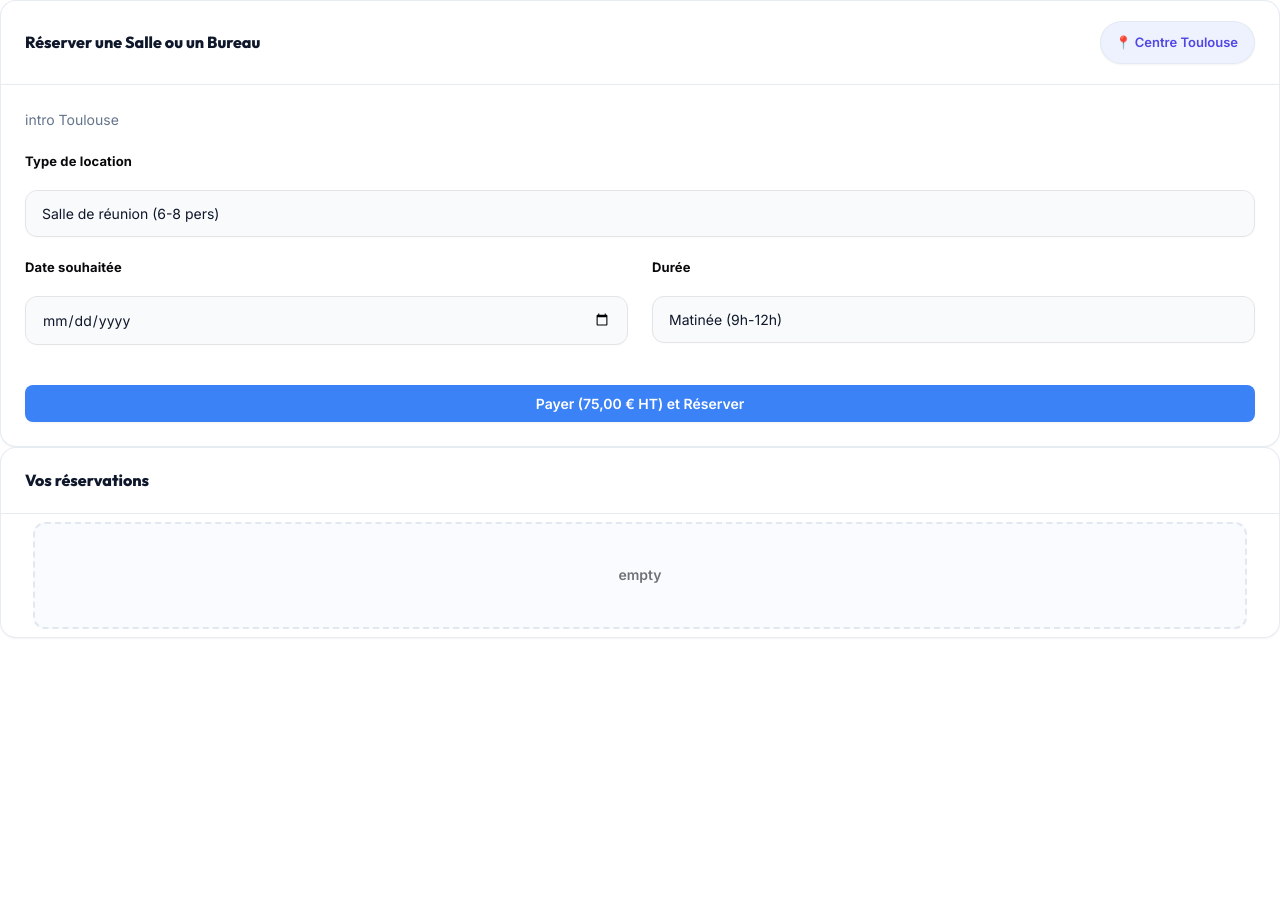
Test: Meeting (espace client) › refuse de payer sans date
This screenshot has width=1280, height=900.
Click the button "Payer (75,00 € HT) et Réserver" at (640, 403), box x1=25 y1=385 x2=1255 y2=422
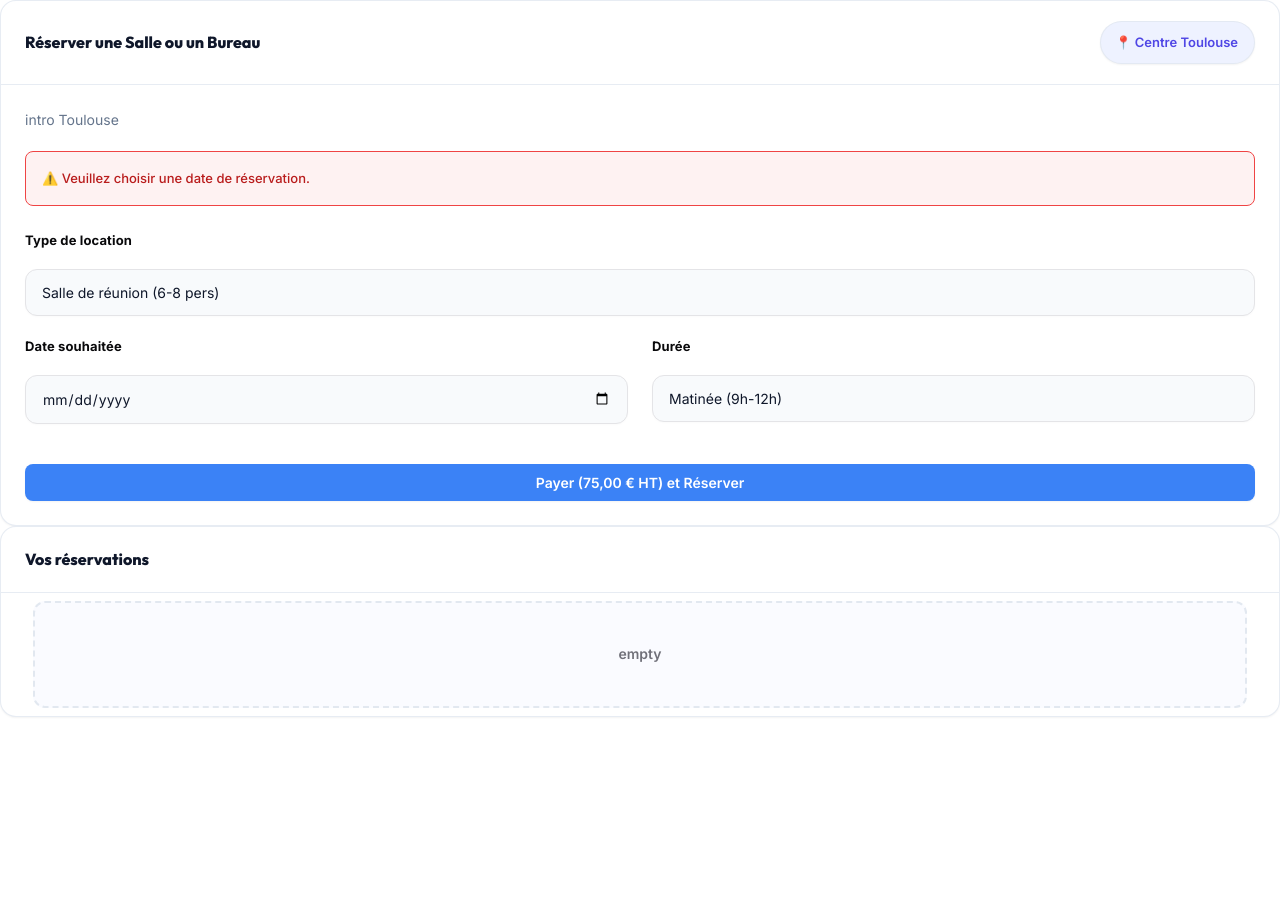
expect the text "⚠️ Veuillez choisir une date de réservation." is shown: met, box x1=25 y1=151 x2=1255 y2=206
